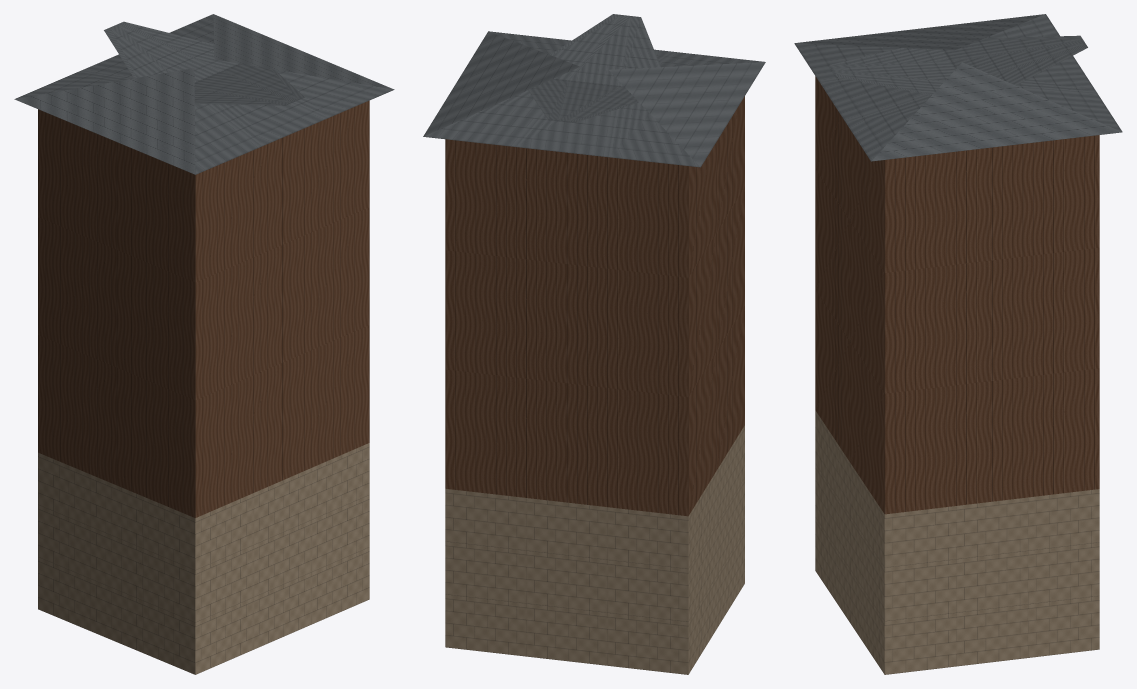
File: bld_c1_-1_539.gltf
3 views of the same model, side by side, from view 1: azimuth 30°, elevation 25°; view 2: azimuth 150°, elevation 25°; view 3: azimuth 270°, elevation 25° (orthographic). The views are drawn at different scales.
Visible parts, largest first — view 1: bld_c1_-1_539; view 2: bld_c1_-1_539; view 3: bld_c1_-1_539.
Boxes of the visible parts, x1=… form: bld_c1_-1_539: x1=14, y1=14, x2=394, y2=674; bld_c1_-1_539: x1=423, y1=14, x2=765, y2=674; bld_c1_-1_539: x1=794, y1=14, x2=1122, y2=674.
Size of the model in its own units: 10.05 by 17.6 by 9.46.
Materials: 3 (3 with a texture image).
